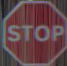Stop: (3, 2, 62, 61)
